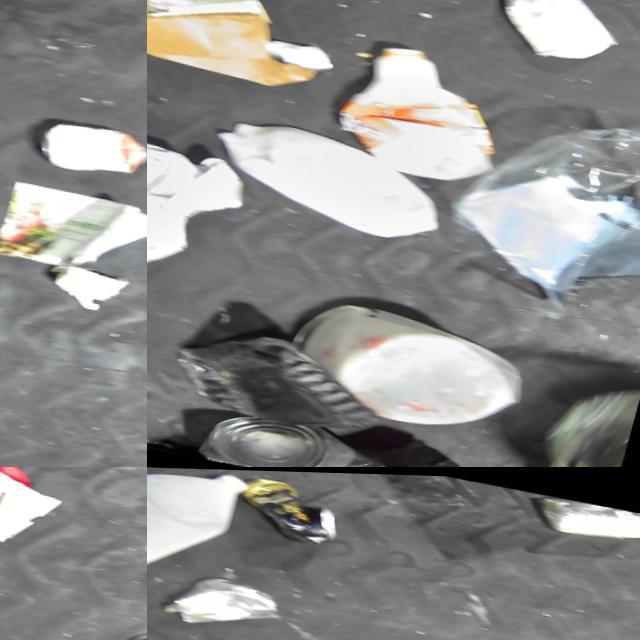can: (209, 404, 409, 467), (229, 473, 351, 547), (31, 111, 147, 184), (147, 467, 186, 479)
milk_jug: (201, 111, 467, 246), (147, 467, 252, 590)
non_white_jug: (332, 35, 529, 190)
plastic_bottle: (522, 490, 640, 559)
